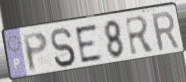8: (103, 18, 126, 60)
E: (73, 22, 105, 65)
P: (21, 30, 50, 74)
R: (123, 15, 156, 58), (149, 10, 181, 54)
S: (49, 27, 77, 69)
